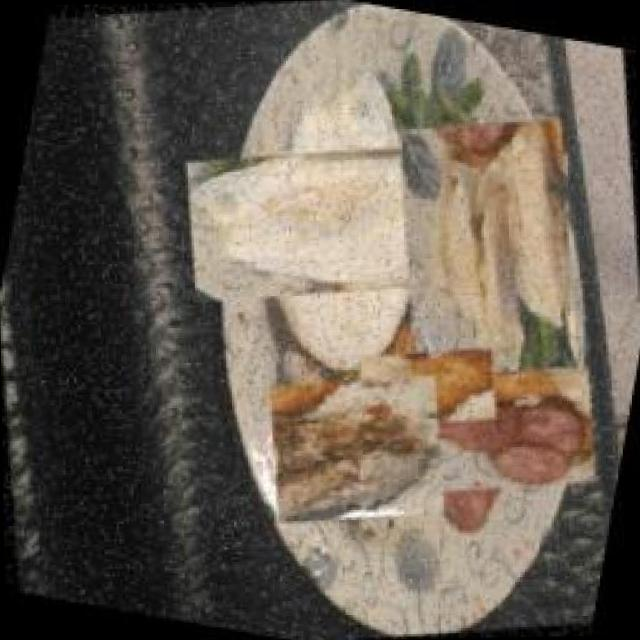chinese_sausage: (385, 322, 607, 544)
fried_dumplings: (348, 87, 624, 412)
fried_eggs: (181, 62, 498, 380)
rice: (248, 340, 467, 559)
triangle_hash_brown: (352, 314, 500, 462)
